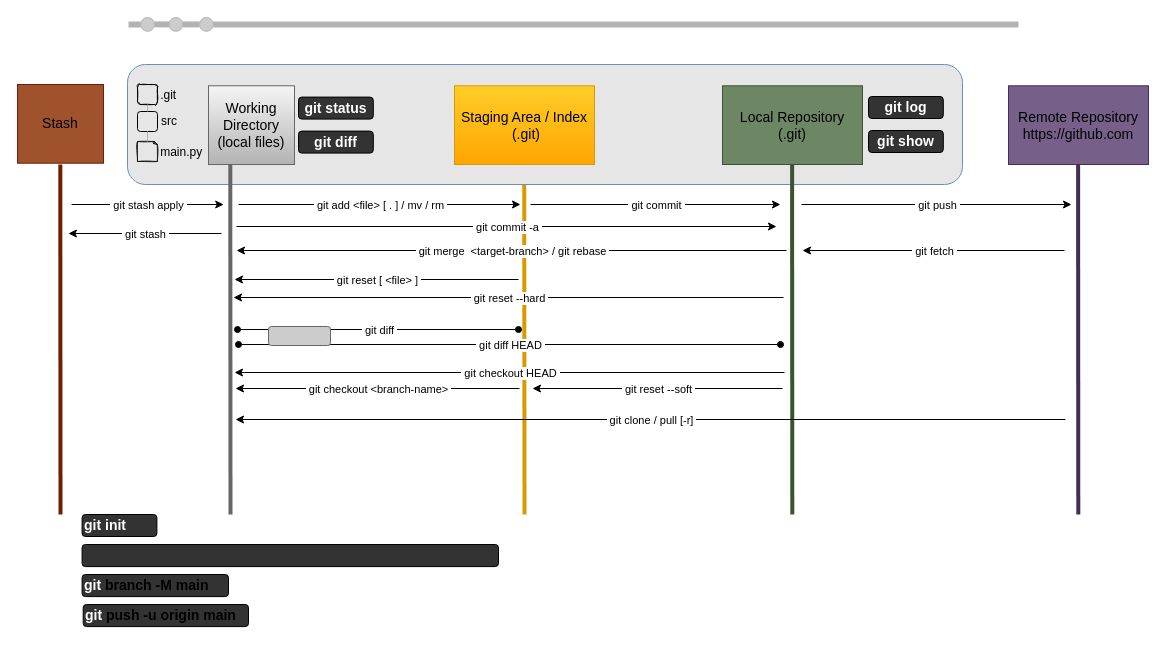
Image size: 1166x645. Some labels were removed from this diagram. Here are the shapes that lost their labels. From the top down, the centre of each, then its label:
At point 299,336: "compare".
At point 289,555: "git remote add origin git@github.com :<user_name>/test.git".
